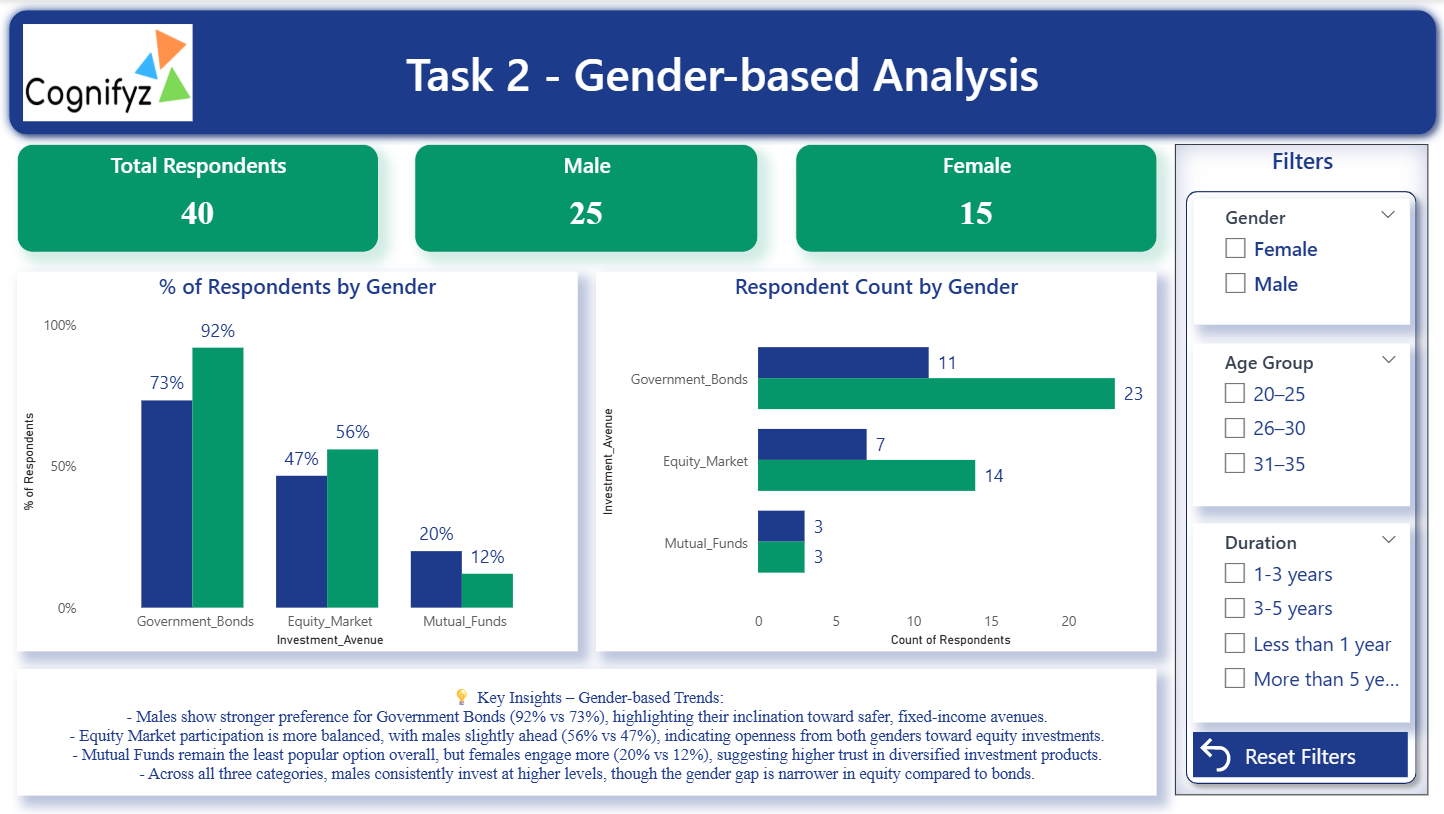

Layout of this report page (visuals, bound fields, positions):
{"tool":"powerbi","page":{"name":"Task 2","canvas":[1280,720],"ordinal":1},"visuals":[{"type":"shape","title":"Filters","box":[1040,128,224,576],"z":0,"group":"g1"},{"type":"clusteredColumnChart","title":"% of Respondents by Gender","fields":{"Category":["Survey.Investment_Avenue"],"Series":["Survey.Gender"],"Y":["Survey.Investors % by Gender"]},"box":[16,240,496,336],"z":0},{"type":"clusteredBarChart","title":"Respondent Count by Gender","fields":{"Category":["Survey.Investment_Avenue"],"Series":["Survey.Gender"],"Y":["Survey.Respondent Count by Gender"]},"box":[528,240,496,336],"z":1000},{"type":"group","id":"g1","title":"Group 1","box":[1040,128,224,576],"z":2000},{"type":"shape","box":[0,0,1280,128],"z":3000},{"type":"image","box":[16,16,160,96],"z":4000},{"type":"card","title":"Total Respondents","fields":{"Values":["Survey.Respondents Count"]},"box":[16,128,320,96],"z":5000},{"type":"slicer","title":"Gender","fields":{"Values":["Survey.Gender"]},"box":[1056,176,192,112],"z":6000,"group":"g1"},{"type":"card","title":"Male","fields":{"Values":["Survey.Respondents (Male)"]},"box":[368,128,304,96],"z":6000},{"type":"card","title":"Female","fields":{"Values":["Survey.Respondents (Female)"]},"box":[704,128,320,96],"z":7000},{"type":"slicer","title":"Age ","fields":{"Values":["Survey.AgeGroup"]},"box":[1056,304,192,144],"z":7000,"group":"g1"},{"type":"card","fields":{"Values":["Survey.Dashboard Insights (Short)"]},"box":[16,592,1008,112],"z":8000},{"type":"slicer","fields":{"Values":["Survey.Duration"]},"box":[1056,464,192,176],"z":9000,"group":"g1"},{"type":"actionButton","box":[1056,648,190,40],"z":9000}]}

Visuals, with their boxes in screenshot pixels (x1, y1, x2, y2), scaled from the page's 1280x720 canvas onto the 1444x814 screenshot:
"Filters" shape: x1=1173 y1=145 x2=1426 y2=796
"% of Respondents by Gender" clusteredColumnChart: x1=18 y1=271 x2=578 y2=651
"Respondent Count by Gender" clusteredBarChart: x1=596 y1=271 x2=1155 y2=651
"Group 1" group: x1=1173 y1=145 x2=1426 y2=796
shape: x1=0 y1=0 x2=1443 y2=145
image: x1=18 y1=18 x2=199 y2=127
"Total Respondents" card: x1=18 y1=145 x2=379 y2=253
"Gender" slicer: x1=1191 y1=199 x2=1408 y2=326
"Male" card: x1=415 y1=145 x2=758 y2=253
"Female" card: x1=794 y1=145 x2=1155 y2=253
"Age " slicer: x1=1191 y1=344 x2=1408 y2=506
card - Survey.Dashboard Insights (Short): x1=18 y1=669 x2=1155 y2=796
slicer - Survey.Duration: x1=1191 y1=525 x2=1408 y2=724
actionButton: x1=1191 y1=733 x2=1406 y2=778
